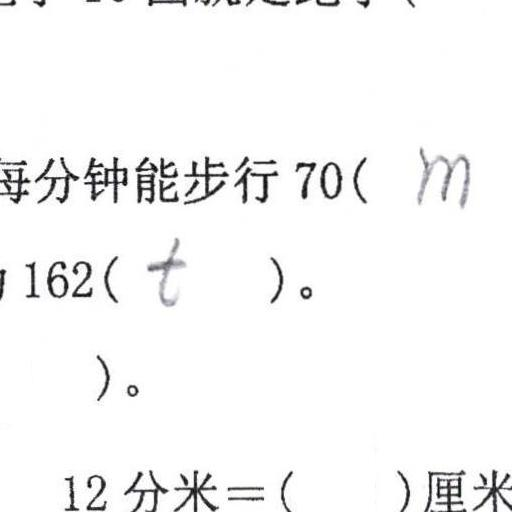ans: (410, 141, 474, 210), (139, 232, 187, 309)
